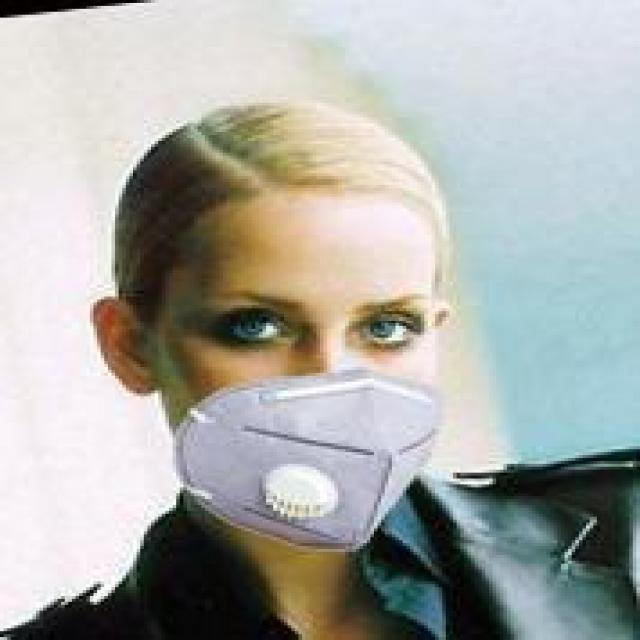mask: (61, 82, 521, 573)
